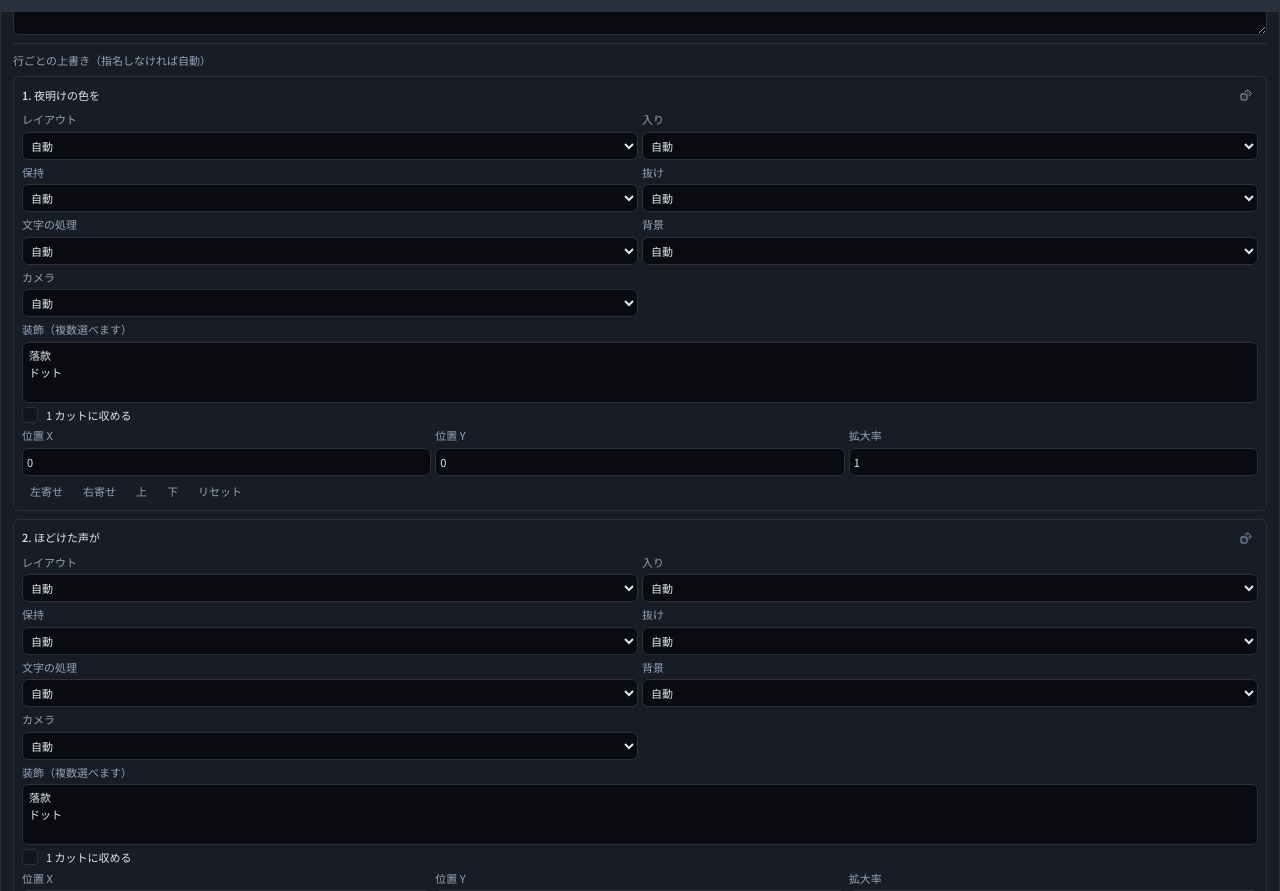
Test: LyricInspector › 位置の数値欄は打ち終わりを待って保存し、読めない中身は保存しない
(page scrolled)
Replace the text in the number field named "1 行目の位置 Y" with "-0.2" at (640, 462), box top-left (435, 448), bottom-right (845, 476)
Wait 900 ms
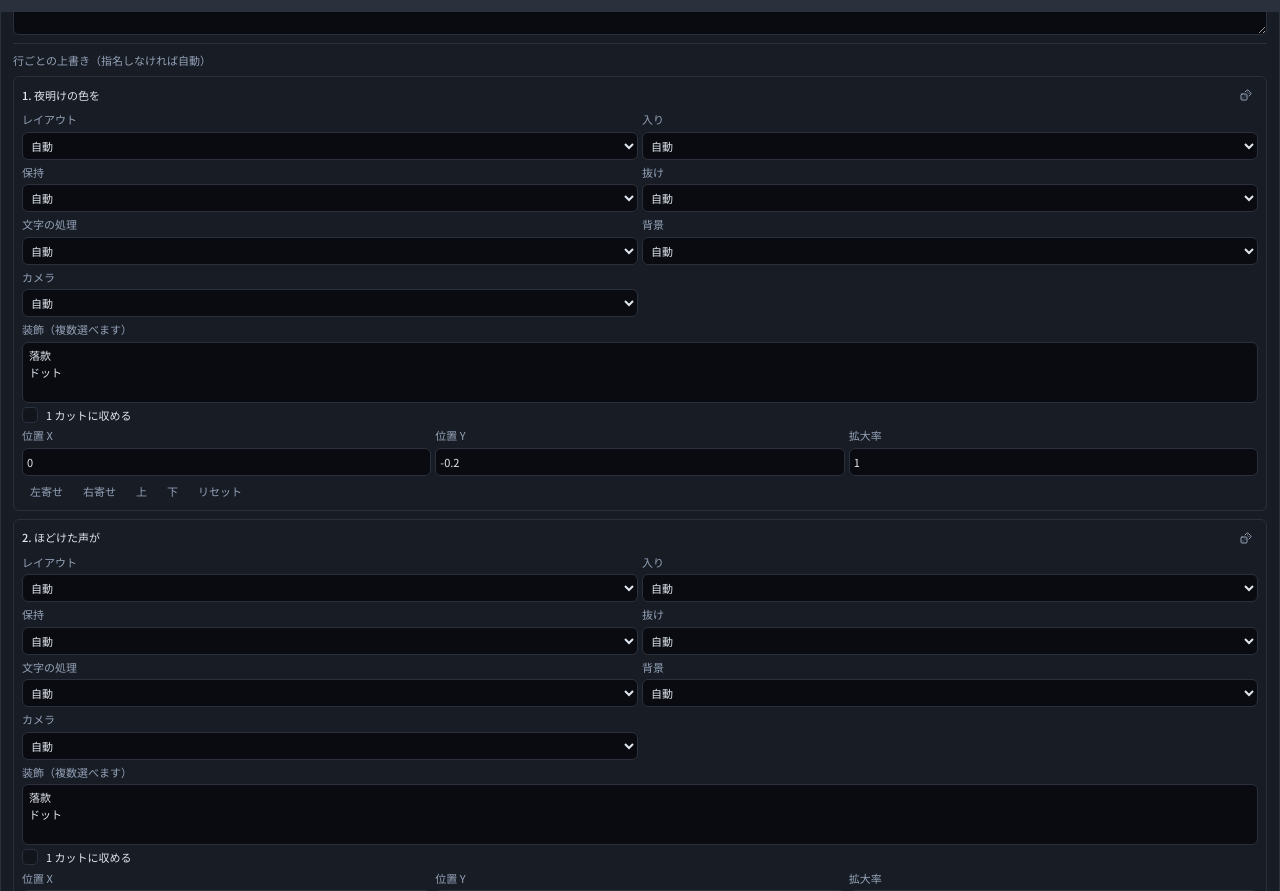
Clear the number field named "1 行目の位置 Y" at (640, 462), box top-left (435, 448), bottom-right (845, 476)
Wait 1000 ms
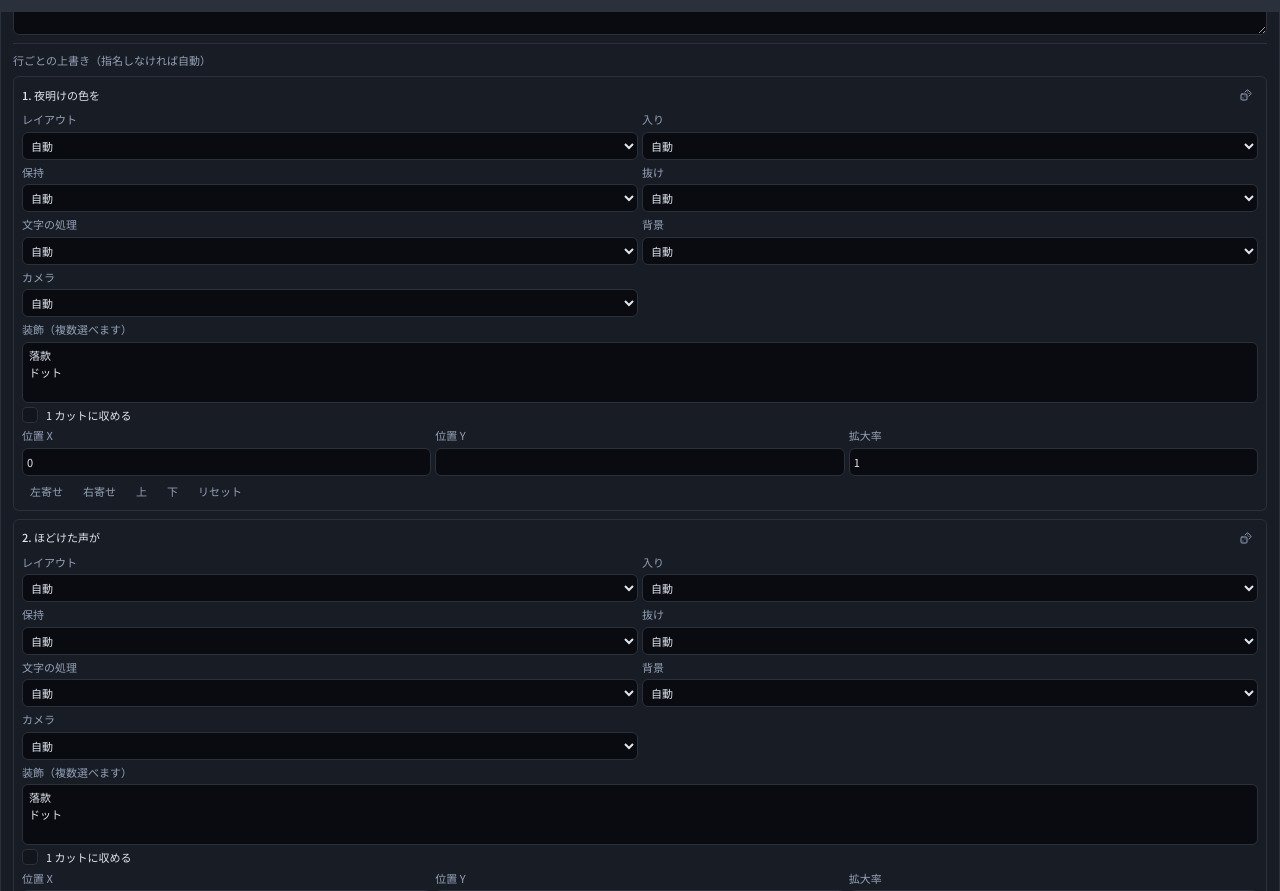
Leave the number field named "1 行目の位置 Y", box top-left (435, 448), bottom-right (845, 476)
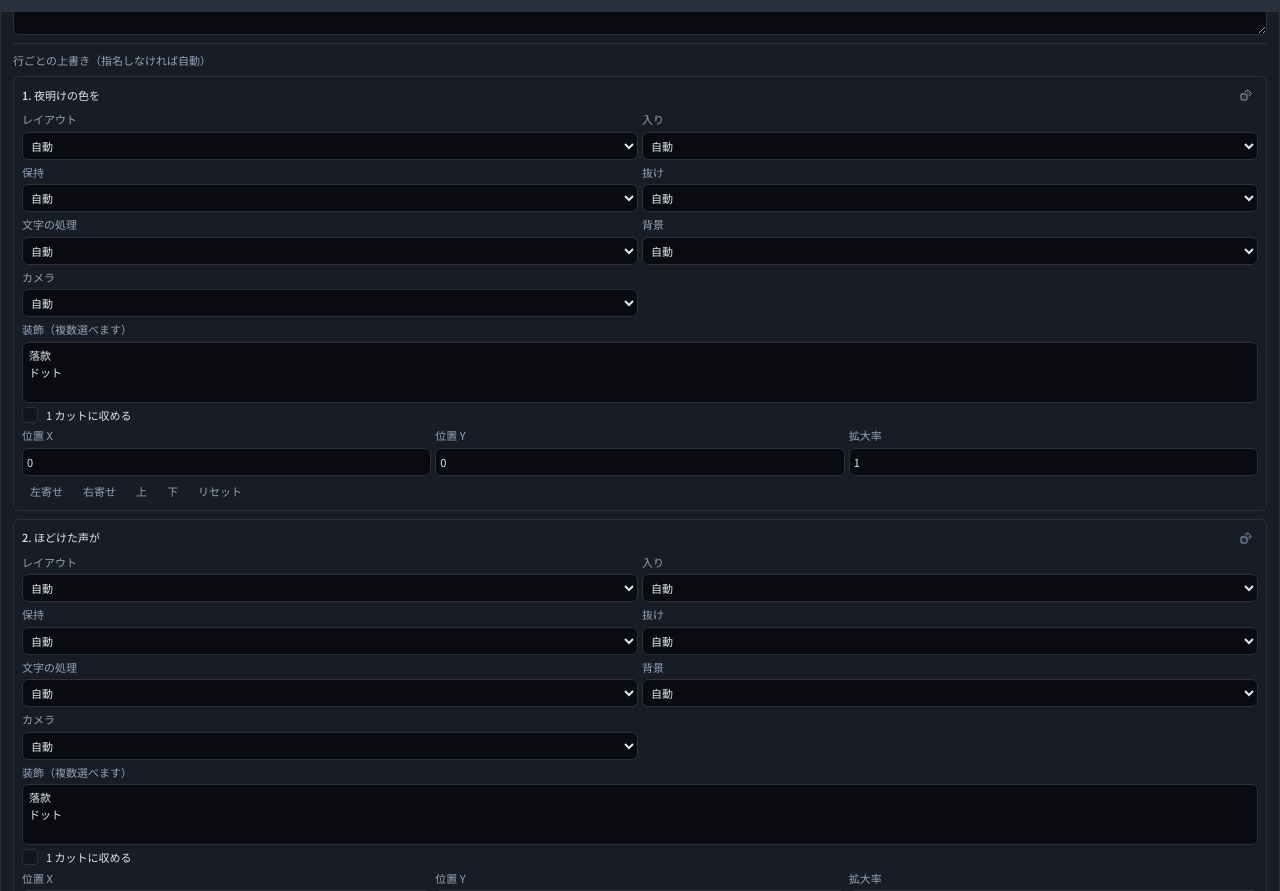
Result: the number field named "1 行目の位置 Y" holds "0" at top-left (435, 448), bottom-right (845, 476)
